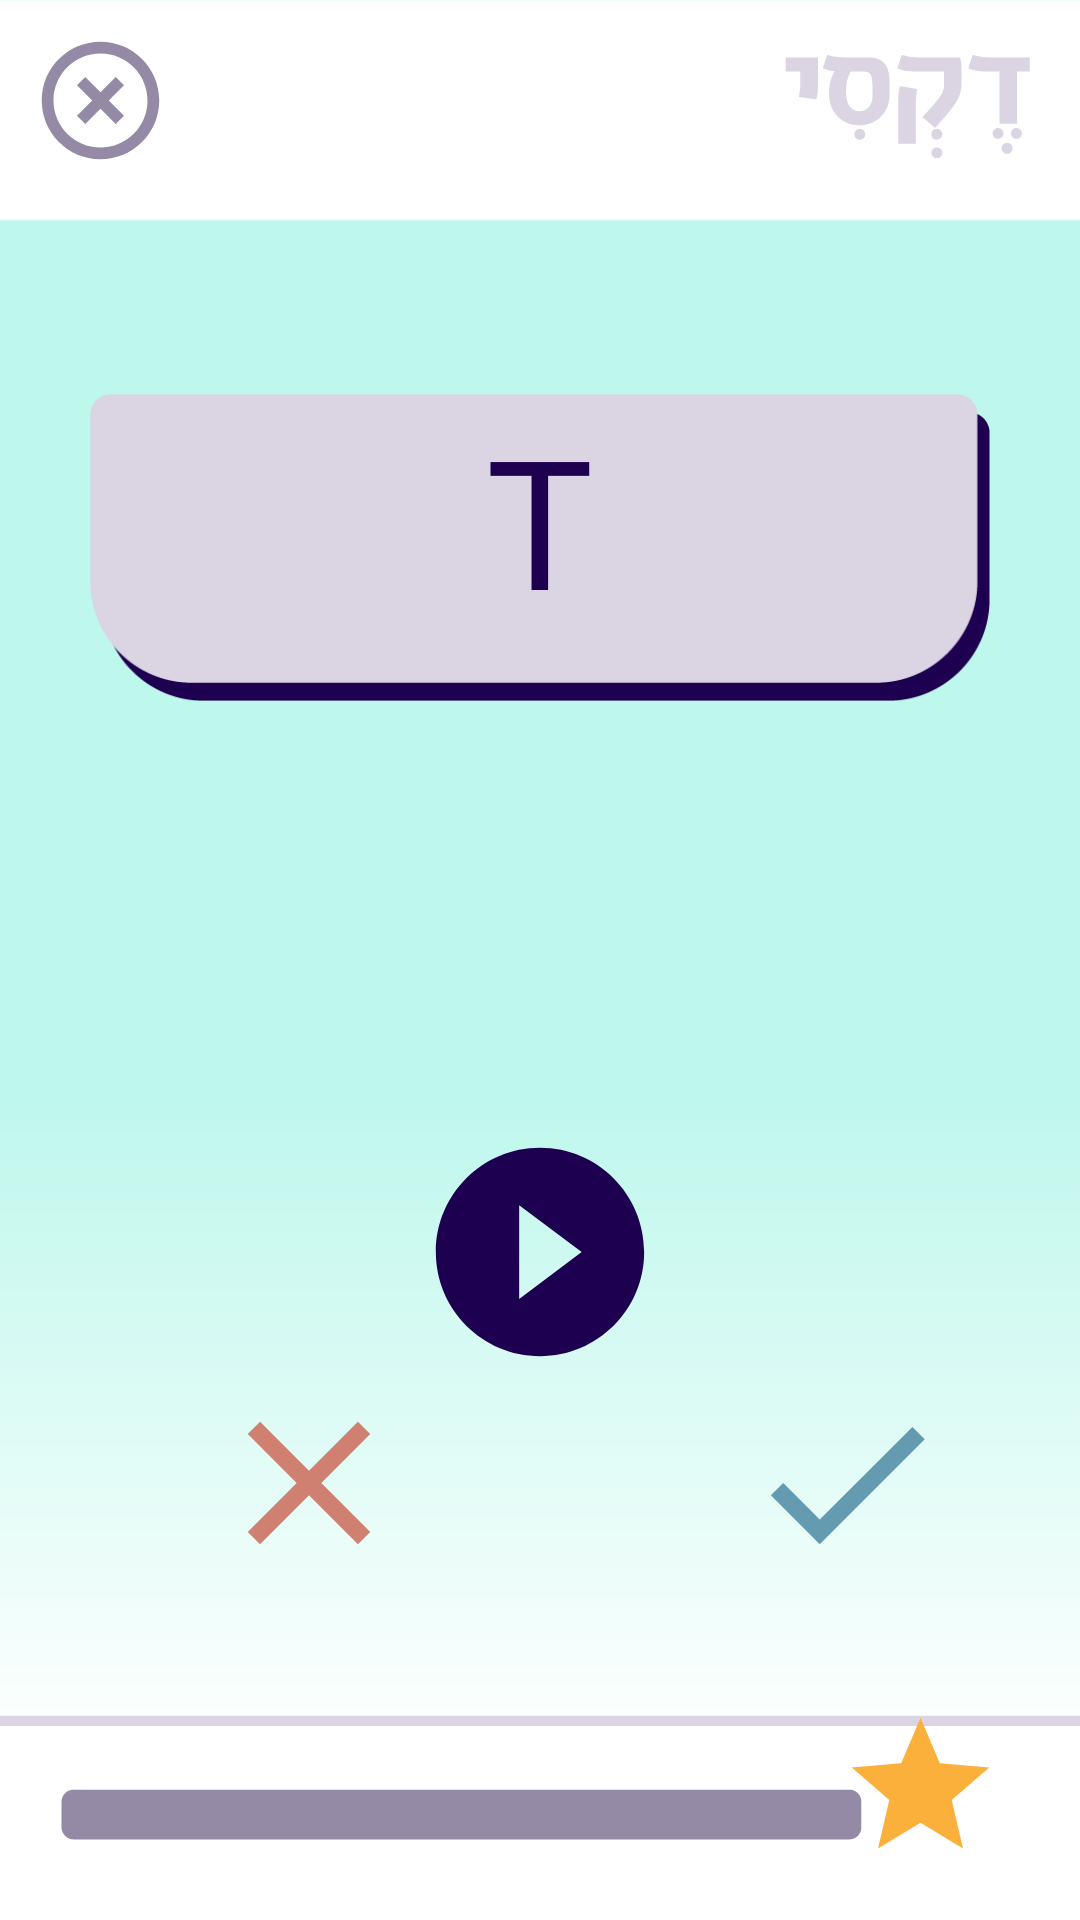

Named icons in this screenshot (1080 × 1920) and their bounding boxes, (x1, y1, x2, y2):
check: (741, 1378, 951, 1545)
close: (204, 1378, 414, 1545)
highlight off: (41, 41, 160, 160)
play circle: (435, 1147, 645, 1357)
